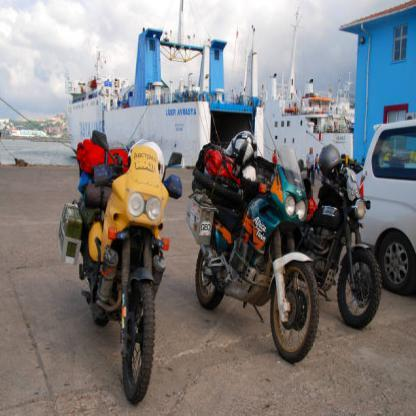Motorcycle: (57, 123, 172, 409), (193, 125, 323, 373), (313, 131, 391, 329)
